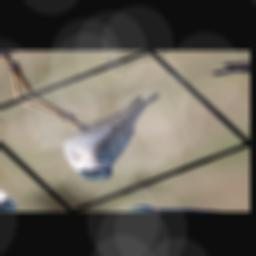Swallow: (36, 89, 211, 186)
